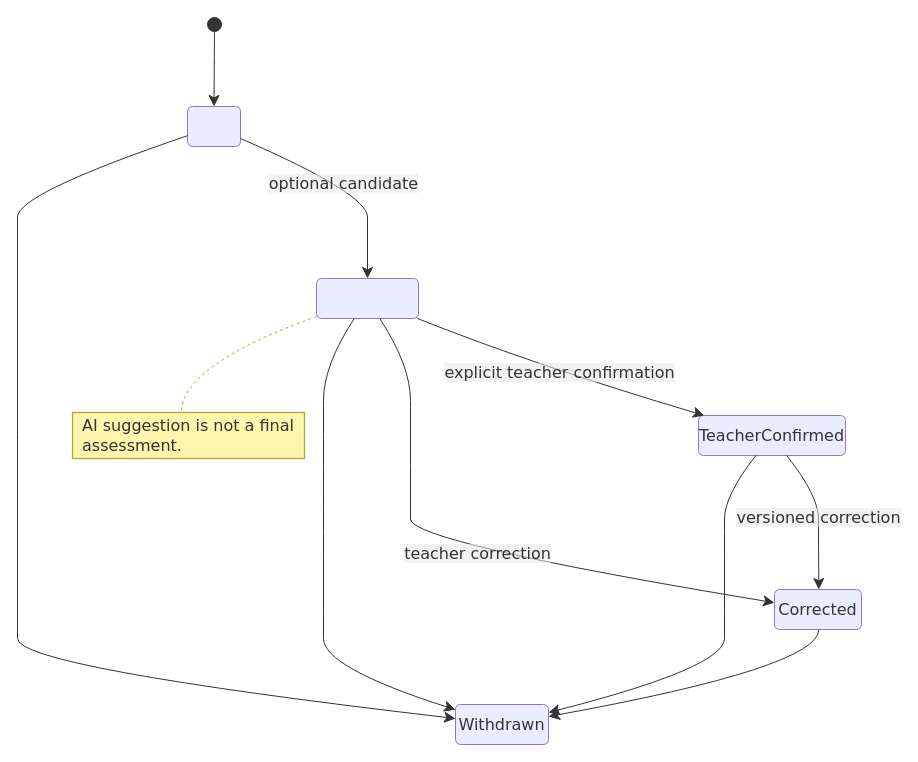
Some shapes in this 918 by 762 pixel diagram are drawn without their labels. Each missing label, with the centre of its shape:
"AiSuggested" belongs at point 367,298.
"Draft" belongs at point 213,126.
